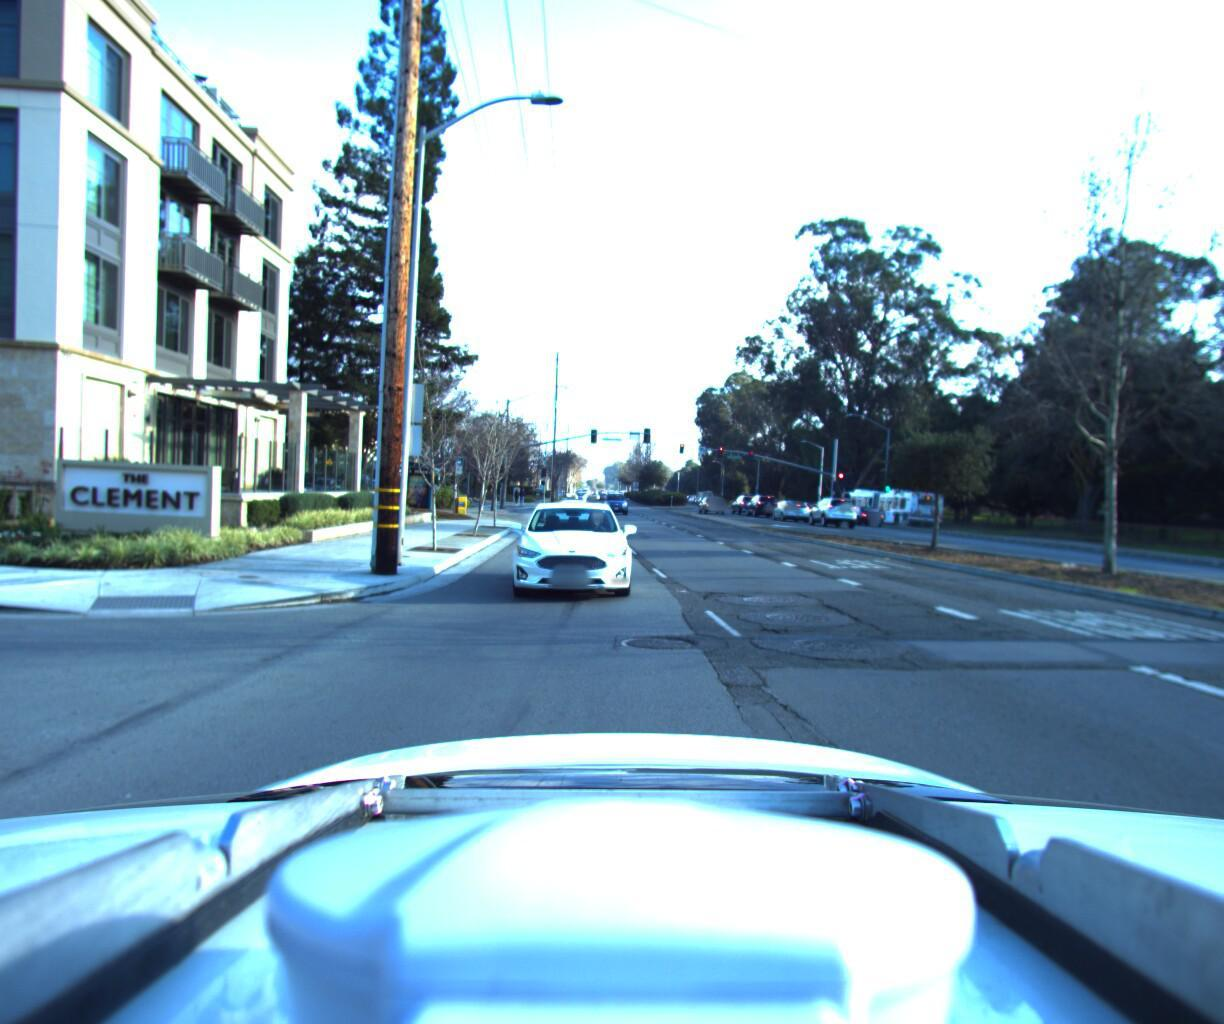bus: (836, 478, 945, 519)
car: (508, 492, 633, 607), (802, 488, 857, 520), (767, 491, 811, 519), (744, 485, 781, 510), (843, 497, 888, 518), (600, 483, 629, 508), (731, 485, 763, 507), (697, 486, 728, 506)
